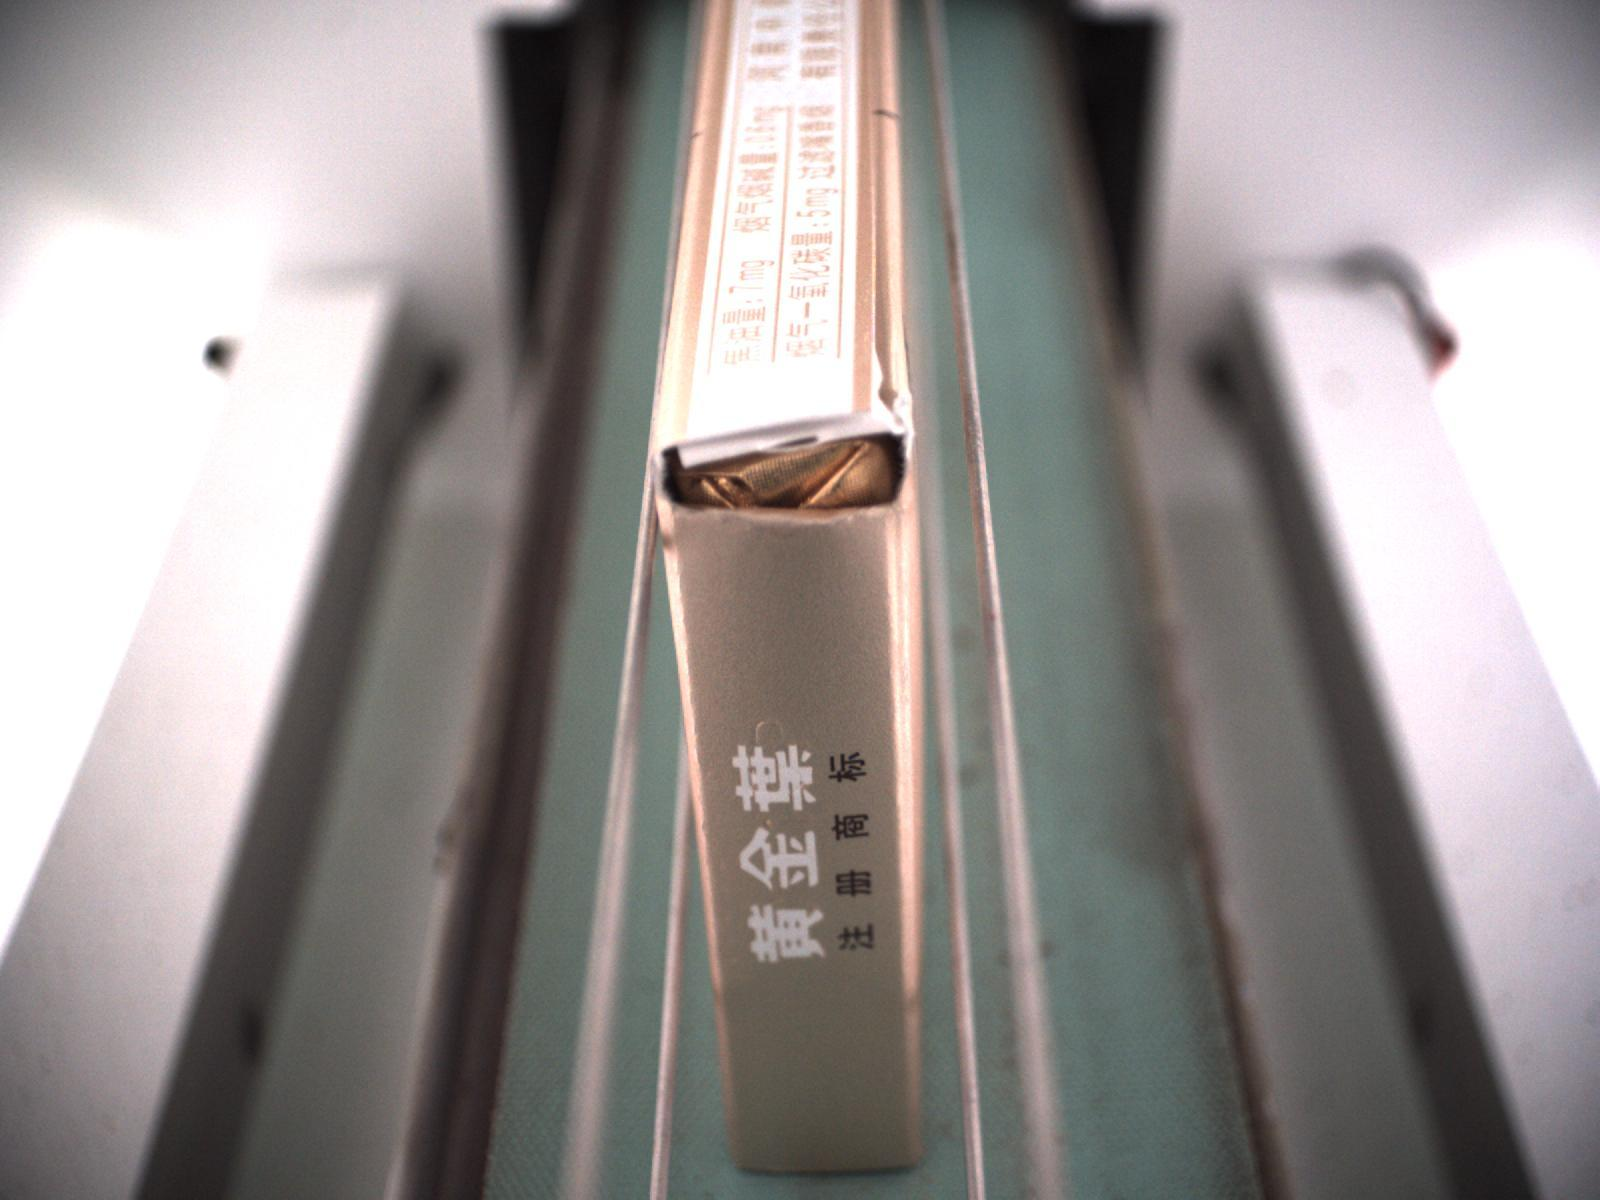headOpen_upper: (649, 395, 920, 528)
